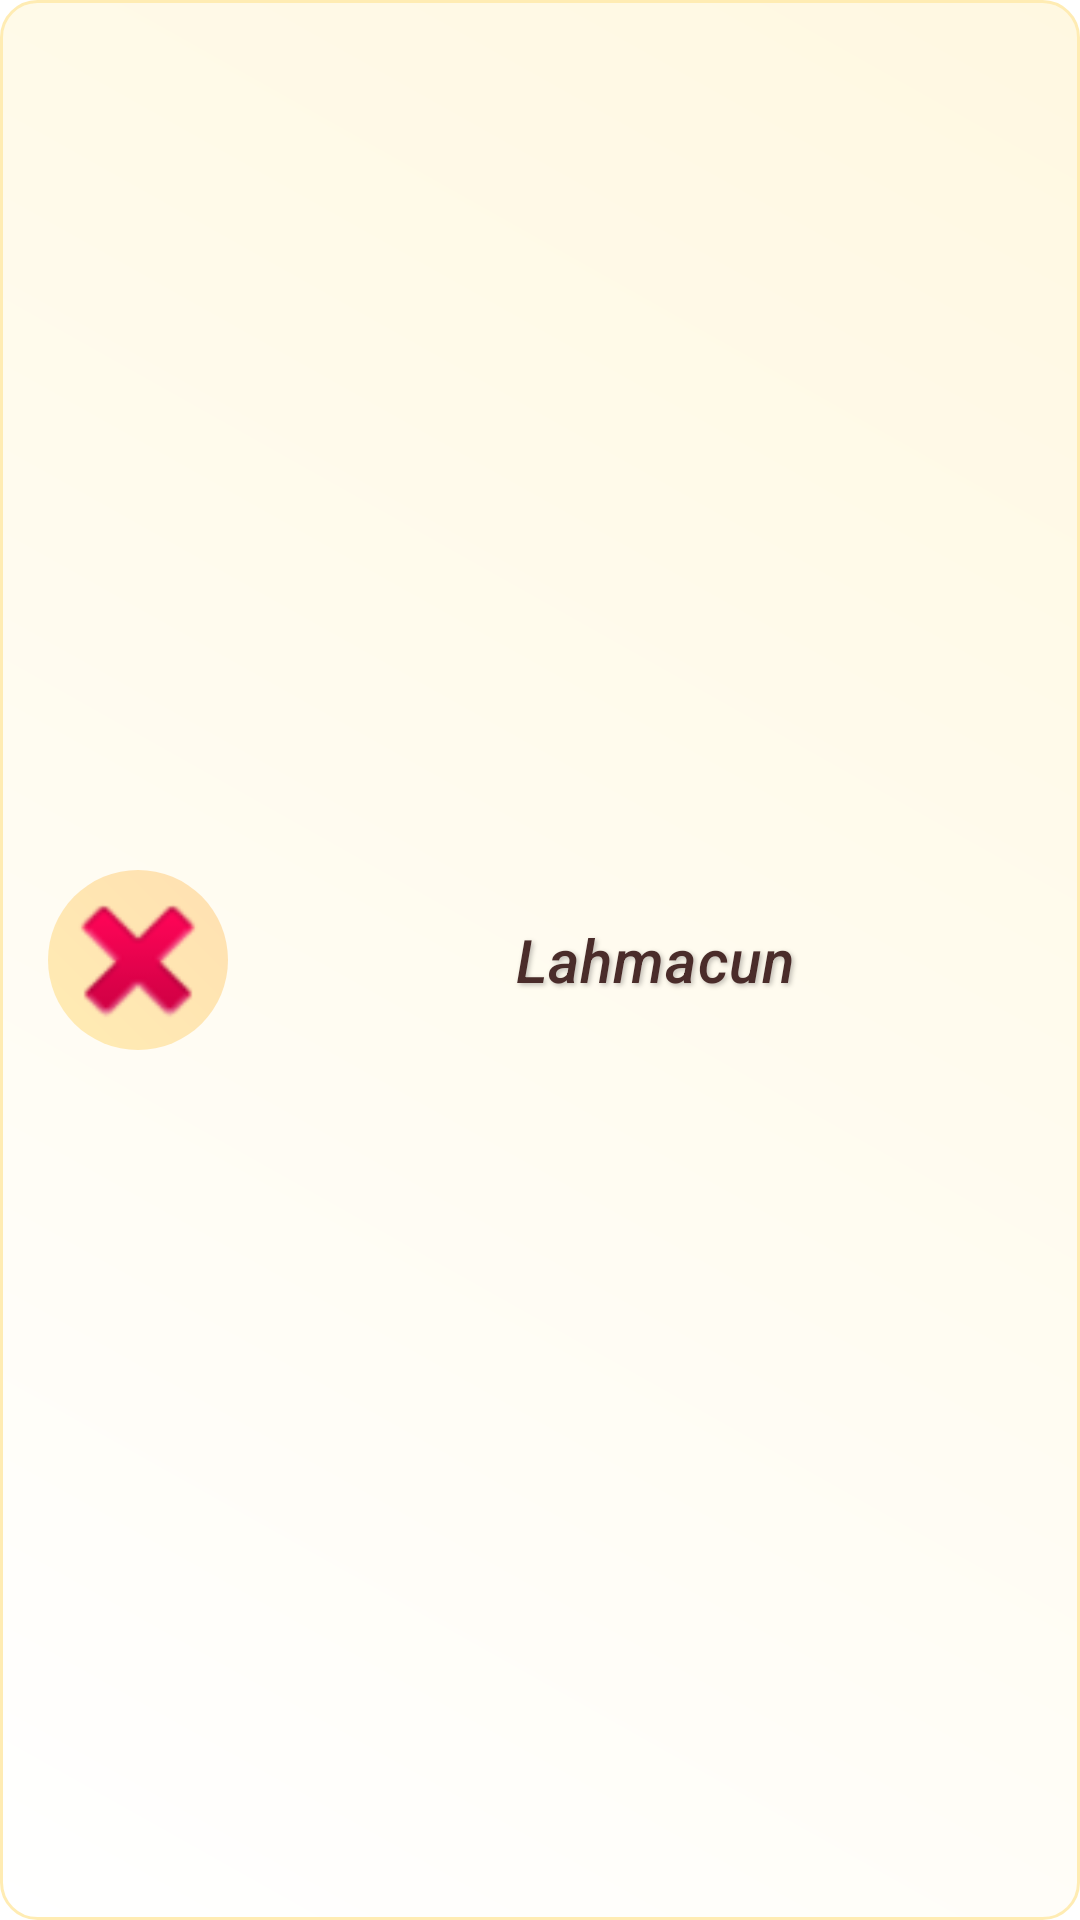

Screen size 1080 x 1920. Icon name, then its center in pixels as point (x, y):
delete: point (138, 960)
